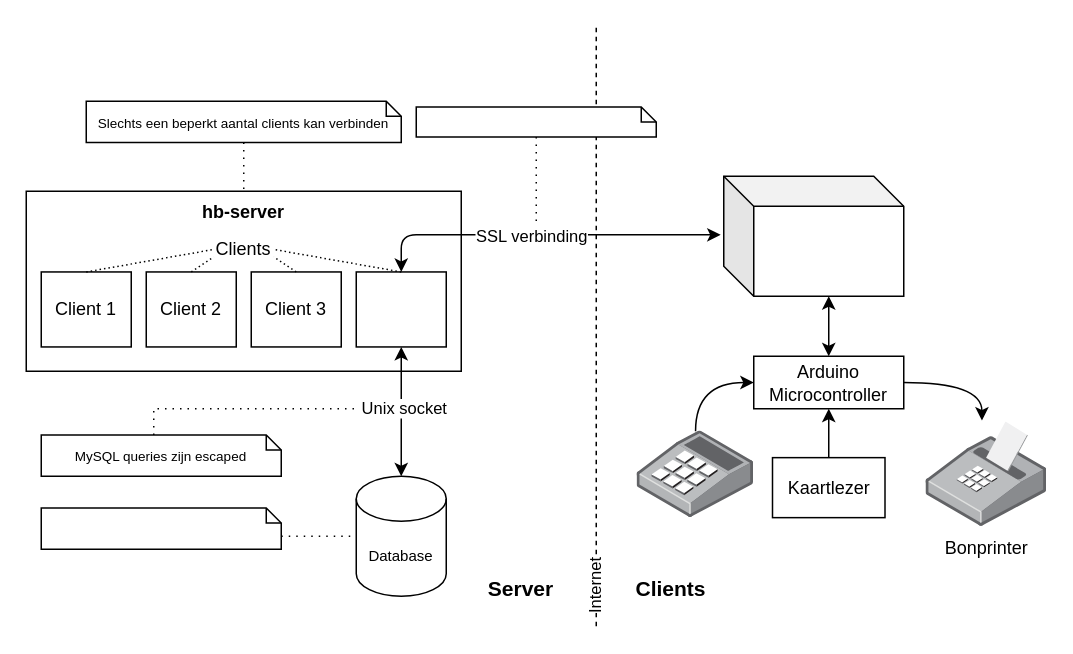
Image size: 1073x654. Some labels were removed from this diagram. The centre of each missing label's shape, as x and y in pixels:
Alleen over Unix sockets te bereiken: [160,528]
Client 4: [400,308]
Geldautomaat: [813,235]
Keypad: [695,473]
Rate limiting wordt toegepast: [535,121]
